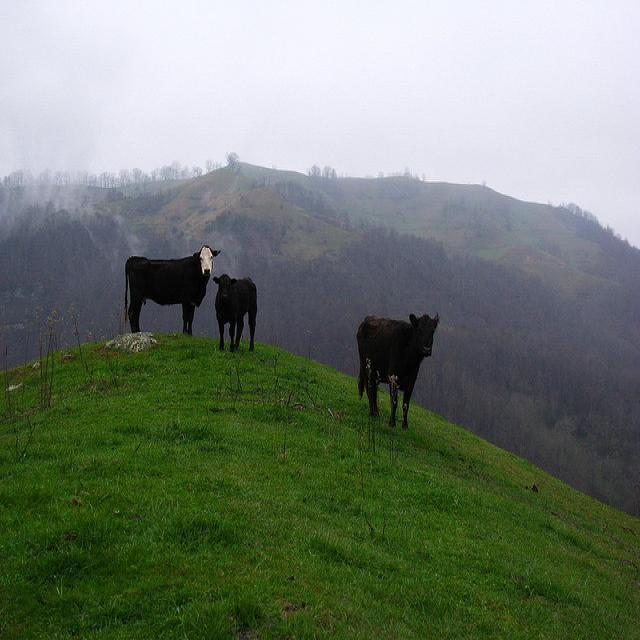cow: (354, 309, 437, 427), (123, 244, 217, 329), (212, 272, 256, 352)
